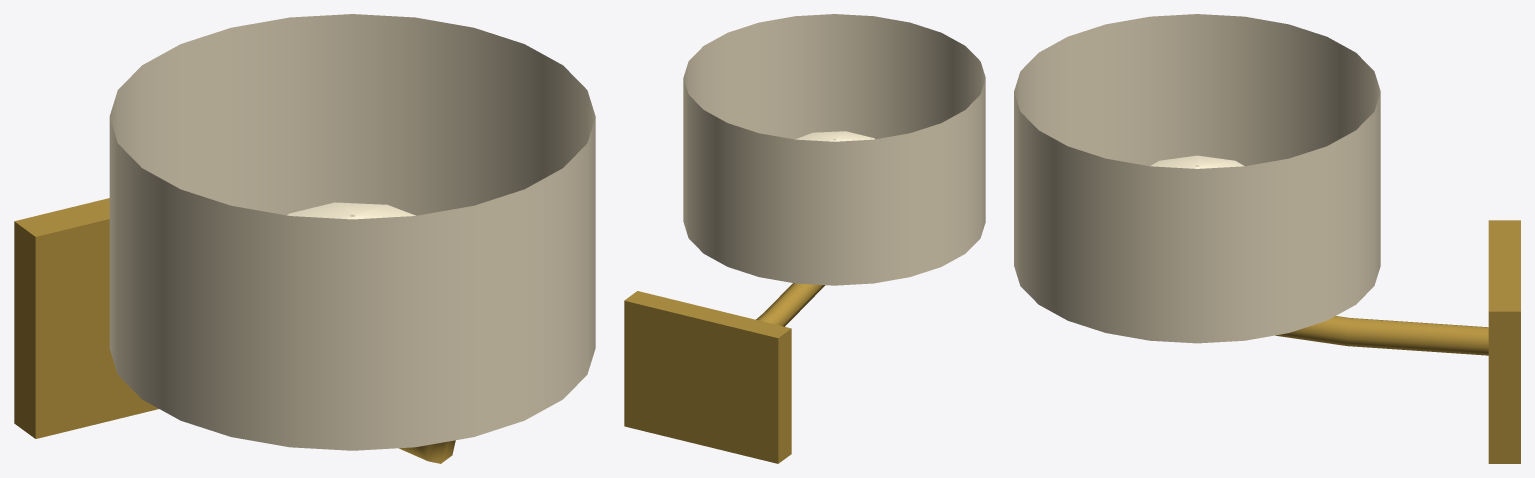
Rendered from ATL-SCN-std.glb.
The picture shows the model from 3 angles, left to right: view 1: azimuth 30°, elevation 25°; view 2: azimuth 150°, elevation 25°; view 3: azimuth 270°, elevation 25°; orthographic projection. The views are drawn at different scales.
Parts seen in each view (by area): view 1: ATL-SCN-std; view 2: ATL-SCN-std; view 3: ATL-SCN-std.
Boxes of the visible parts, <box> form: ATL-SCN-std: <box>14,14,595,463</box>; ATL-SCN-std: <box>624,14,985,463</box>; ATL-SCN-std: <box>1014,14,1520,463</box>.
Size of the model in its own units: 0.17 by 0.1673 by 0.235.
